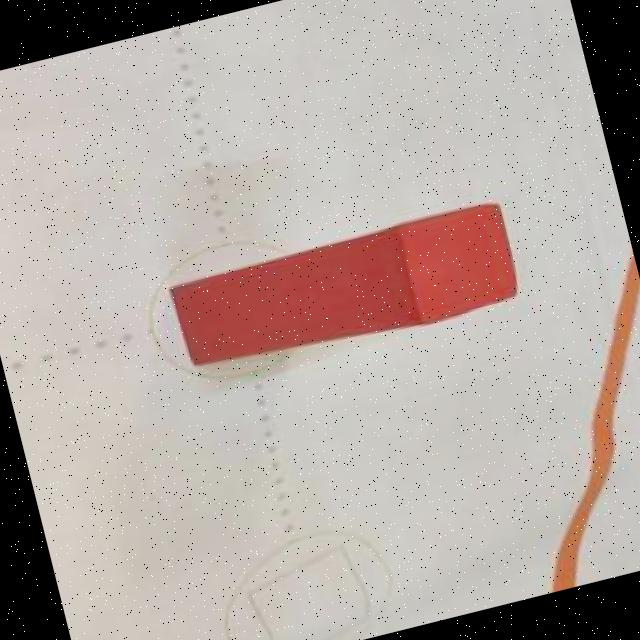redbox: (168, 197, 530, 384)
